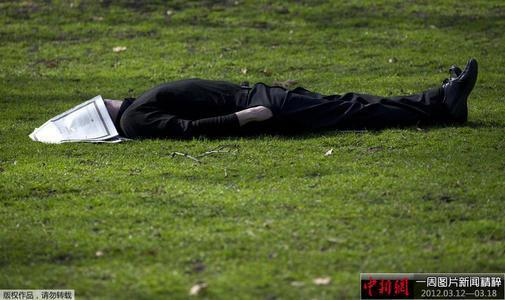Fall-Detected: (102, 62, 466, 145)
